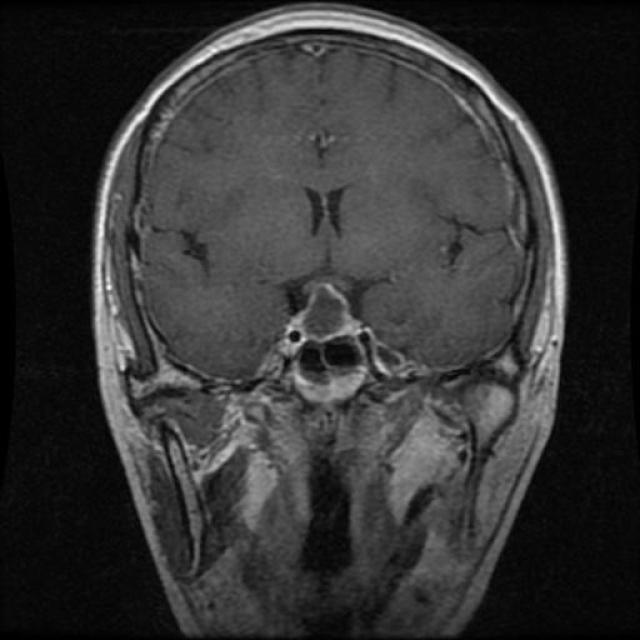pituitary: (274, 266, 374, 346)
